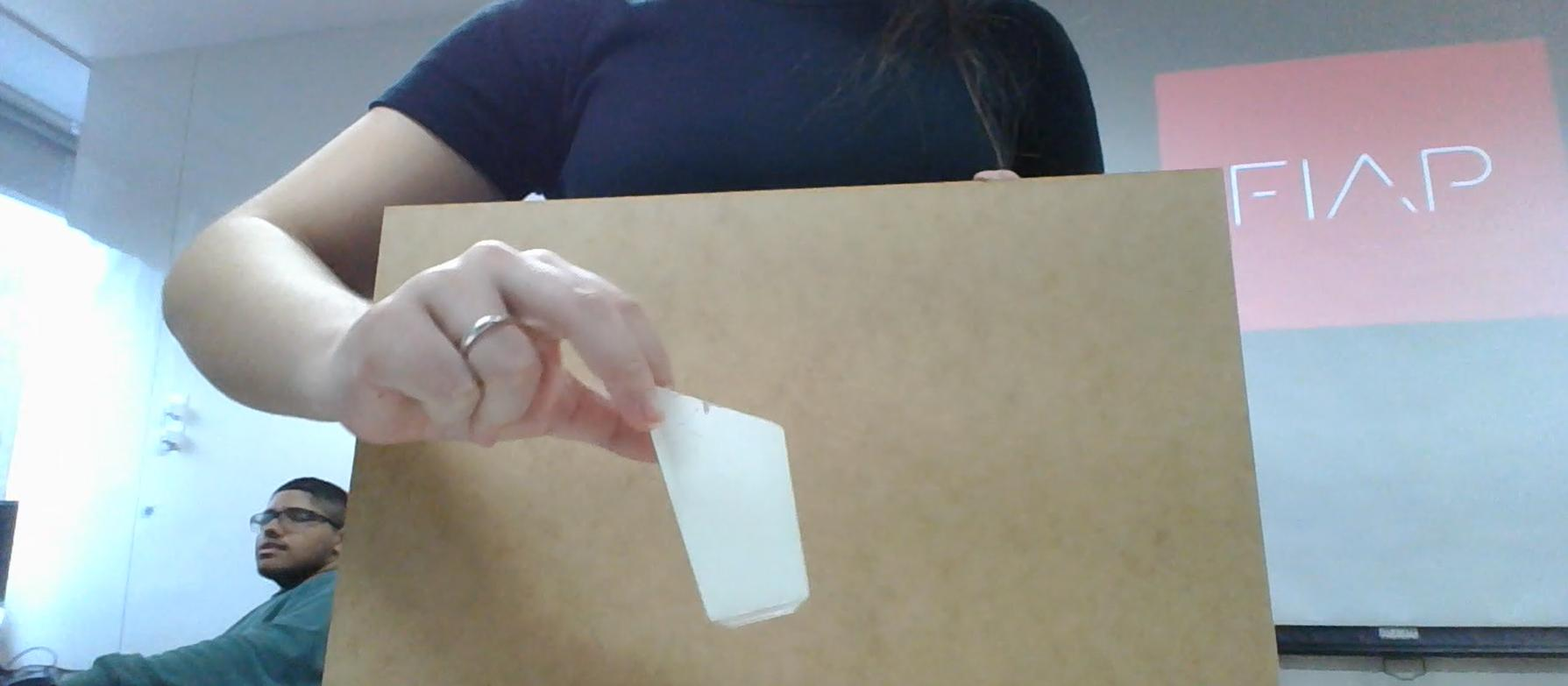erva_daninha: (649, 387, 812, 630)
